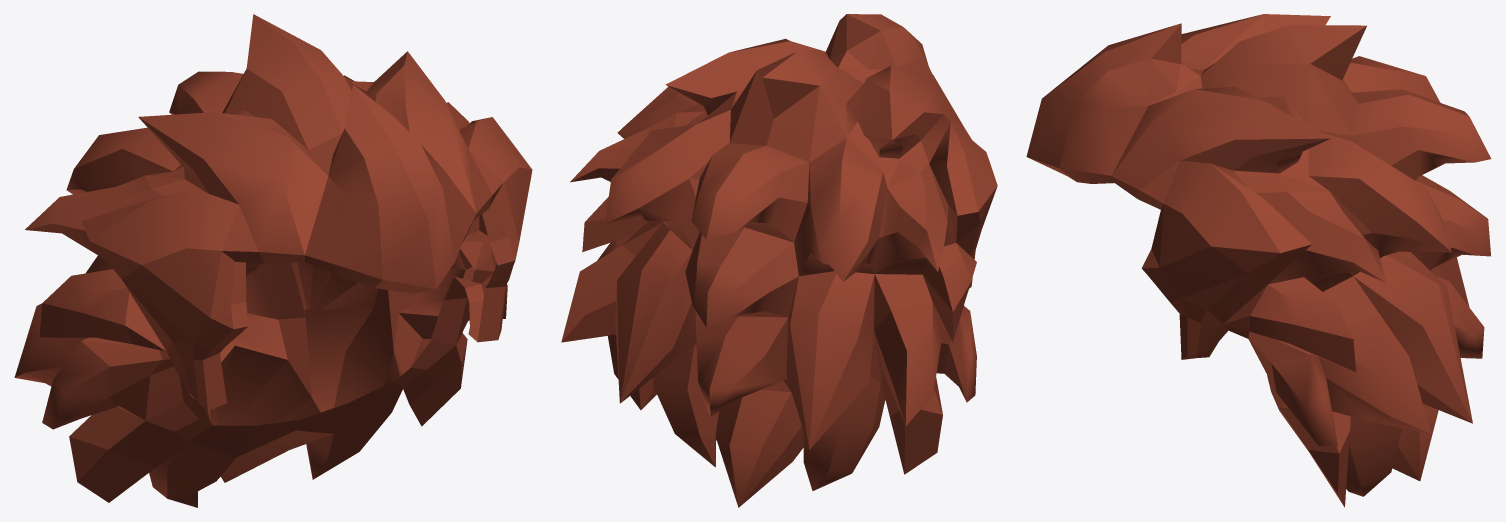
File: Hair_Brown_20.fbx
The picture shows the model from 3 angles, left to right: view 1: azimuth 30°, elevation 25°; view 2: azimuth 150°, elevation 25°; view 3: azimuth 270°, elevation 25°; orthographic projection. The views are drawn at different scales.
Parts seen in each view (by area): view 1: Hair_Brown_20; view 2: Hair_Brown_20; view 3: Hair_Brown_20.
Boxes of the visible parts, <box> form: Hair_Brown_20: <box>14,14,532,507</box>; Hair_Brown_20: <box>561,14,997,507</box>; Hair_Brown_20: <box>1026,14,1491,507</box>.
Size of the model in its own units: 73.92 by 76.65 by 70.5.
